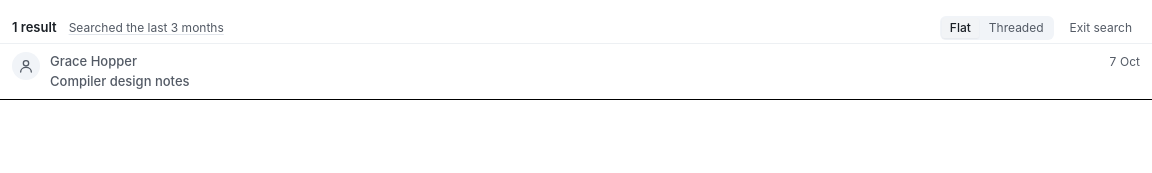
Test: the search results mode › exits the search and returns to the folder rows
Click the button "Exit search" at (1101, 28), box x1=1062 y1=16 x2=1140 y2=40
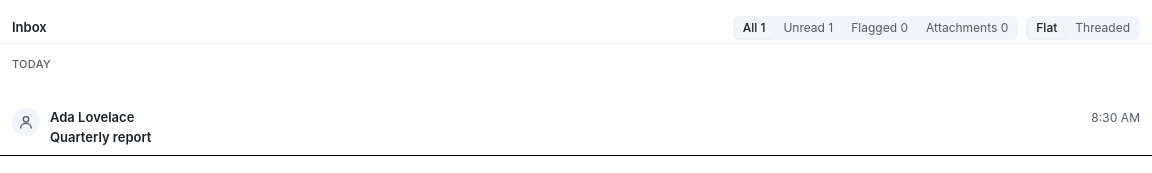
Check: the text "Quarterly report" is shown, box x1=50 y1=128 x2=151 y2=147
Check: the option "Compiler design notes" is gone
Check: the button "Exit search" is gone
